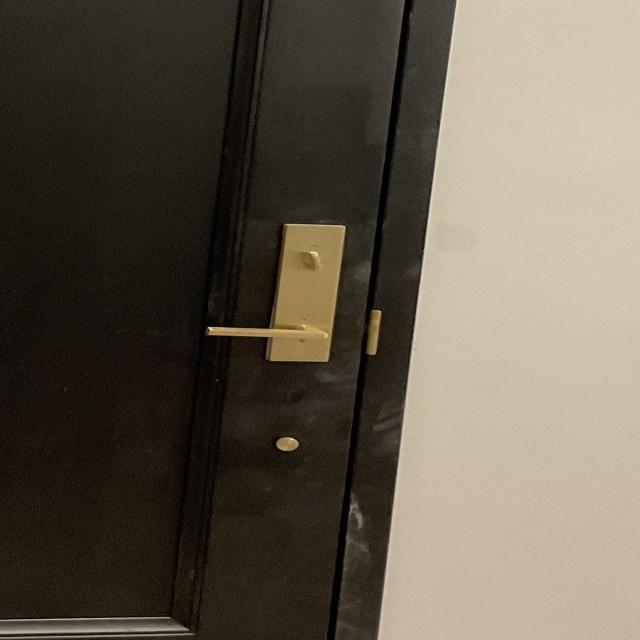door_handle: (189, 310, 356, 353)
